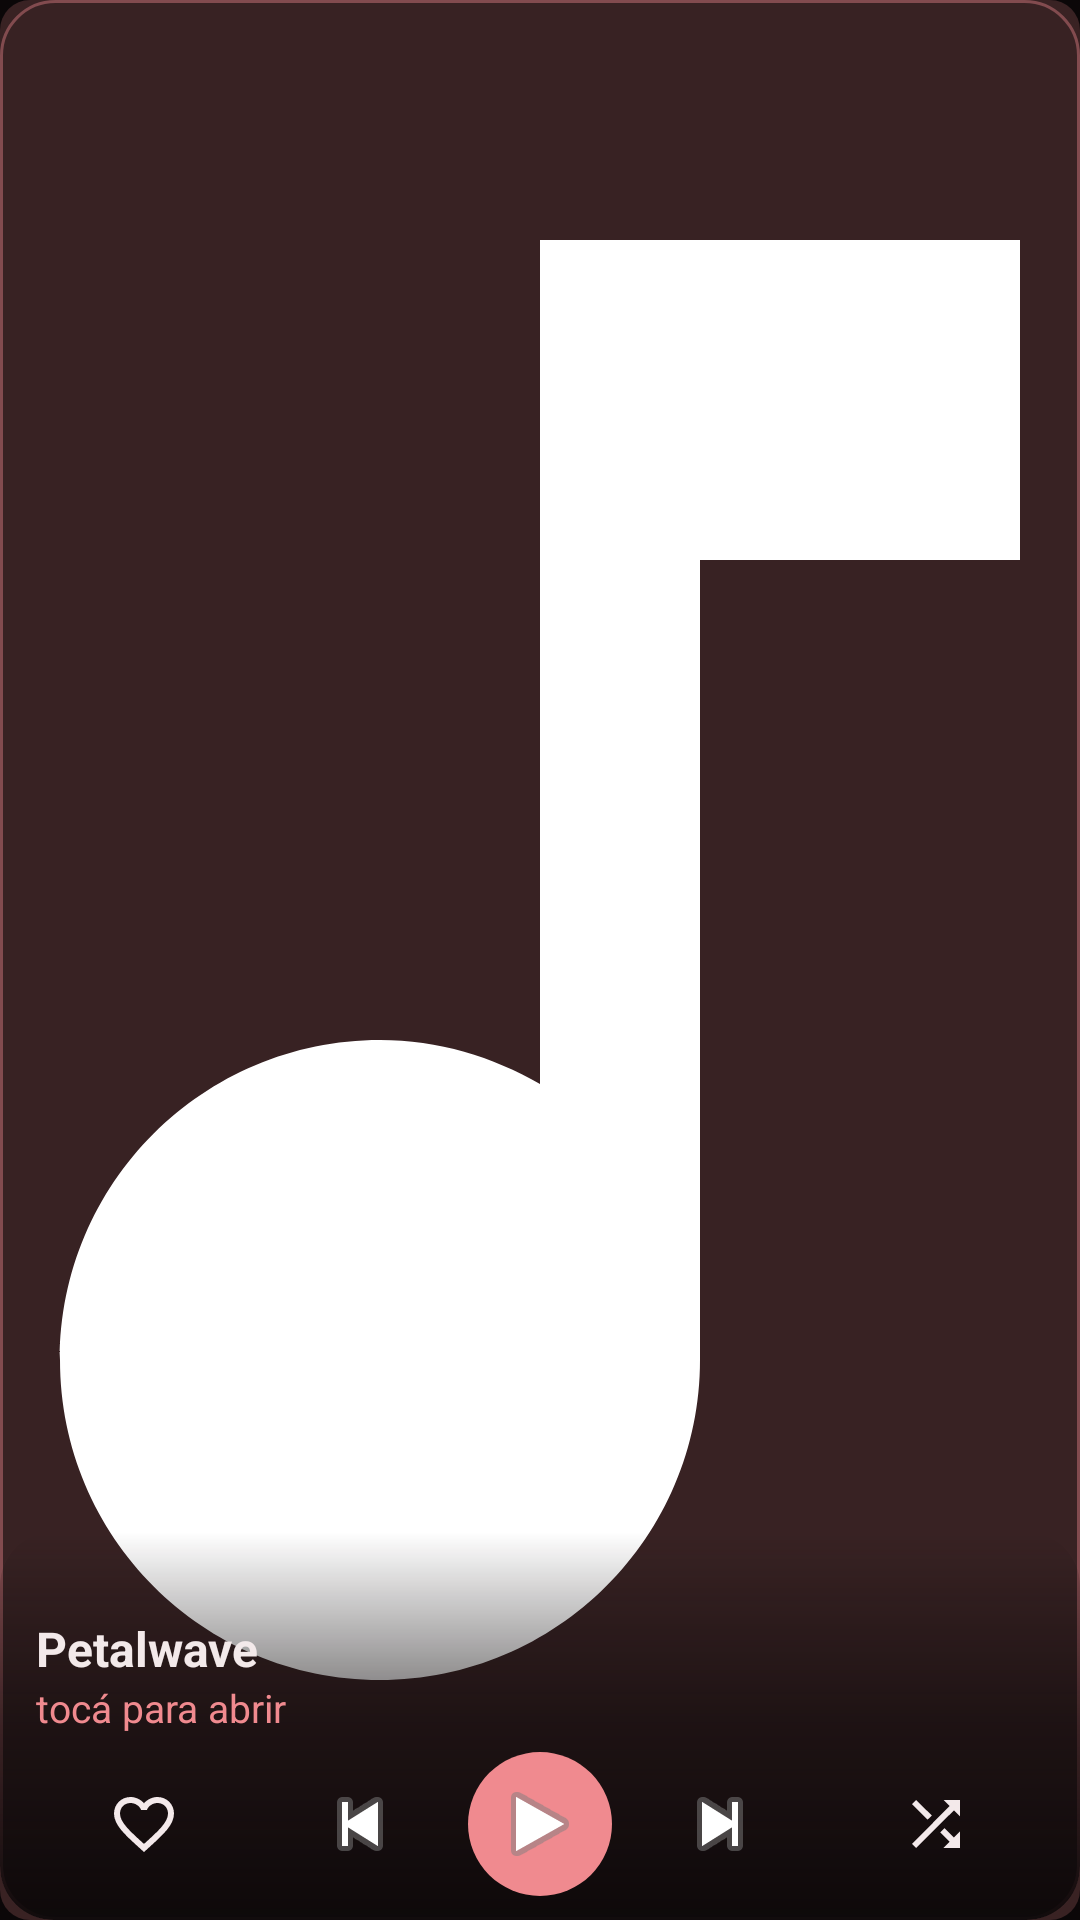

Screen size 1080w x 1920h. Icon name, then its center in pixels as (x=x, y=y):
aleatorio: (x=936, y=1824)
anterior: (x=360, y=1824)
me gusta: (x=144, y=1824)
play o pausa: (x=540, y=1824)
siguiente: (x=720, y=1824)
